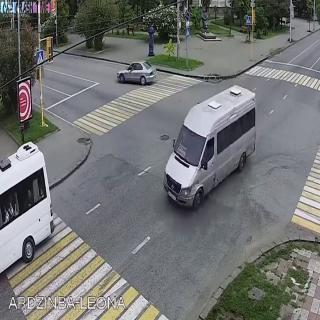normal: (96, 66, 289, 248)
